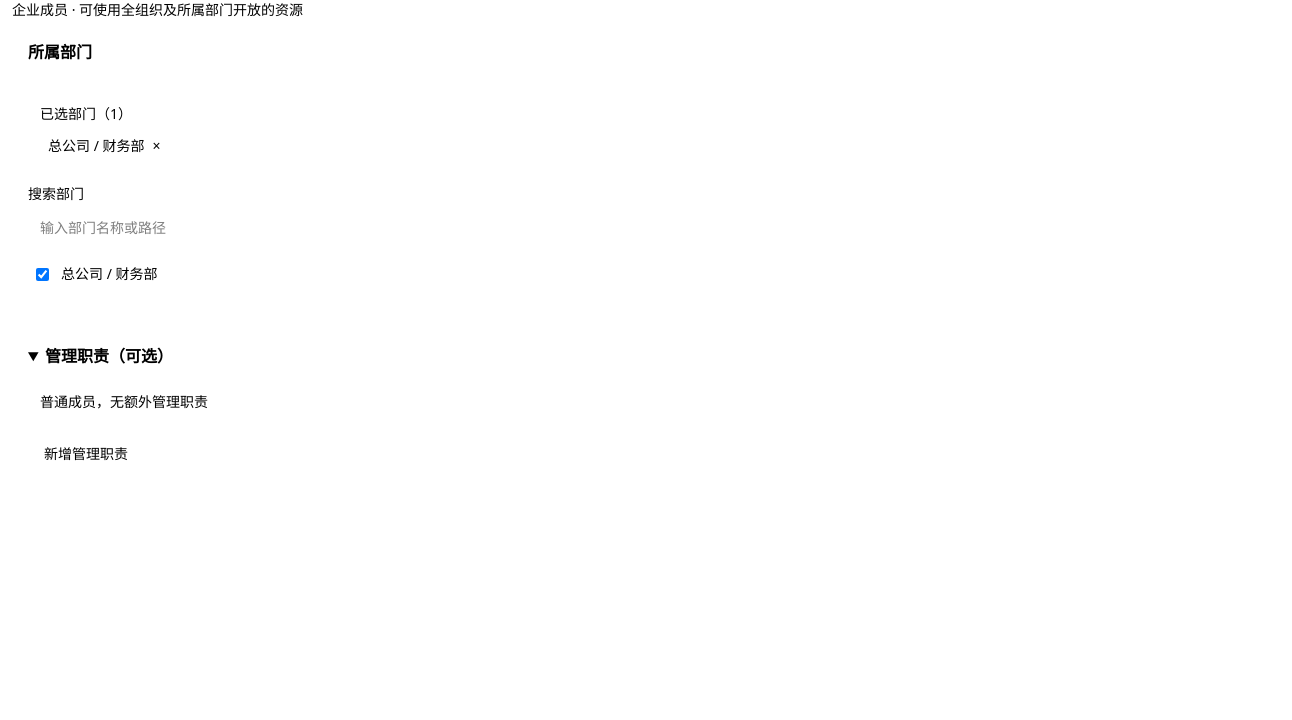
Scenario: 搜索部门不会隐藏已选摘要，取消新增授权不会修改列表
Type "不存在" into the field labelled "搜索部门" at [652, 228], box [28, 208, 1276, 248]
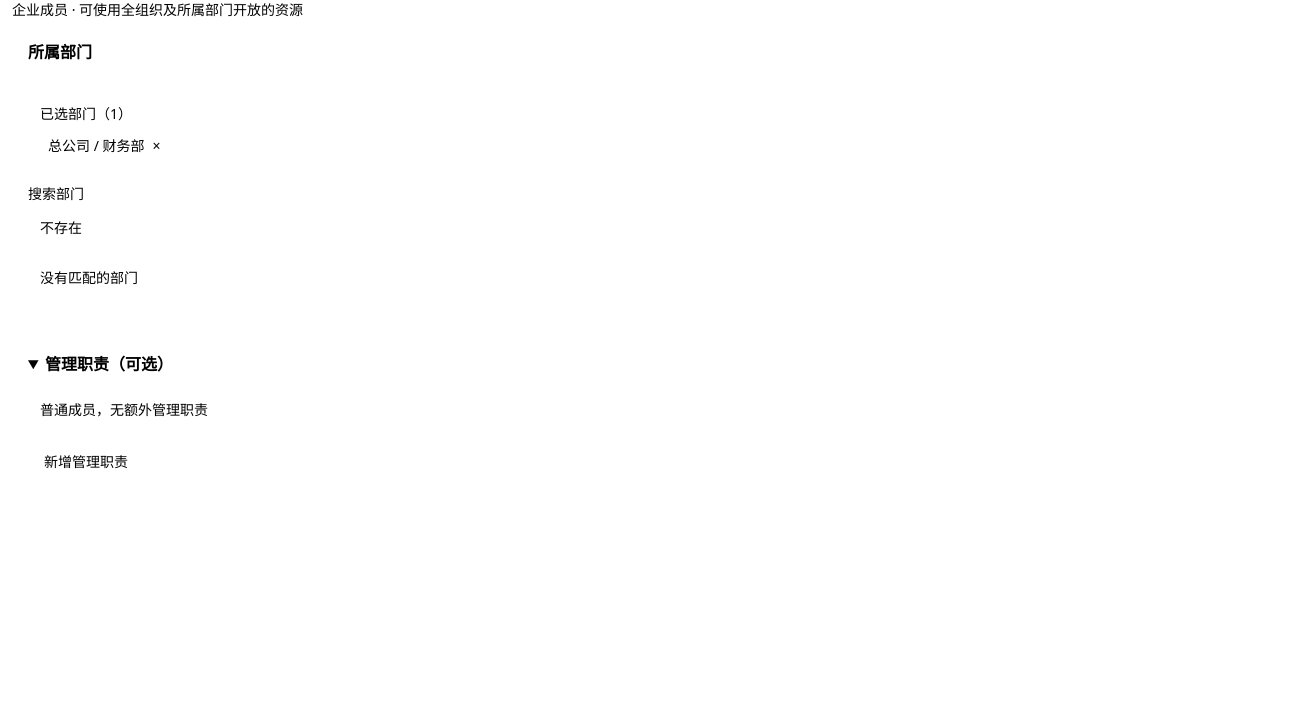
Expected: the text "已选部门（1）" is shown, [40, 104, 132, 123]
Result: the text "没有匹配的部门" is shown at [40, 268, 138, 287]
Click the button "新增管理职责" at [86, 462], box [28, 444, 144, 480]
(page scrolled)
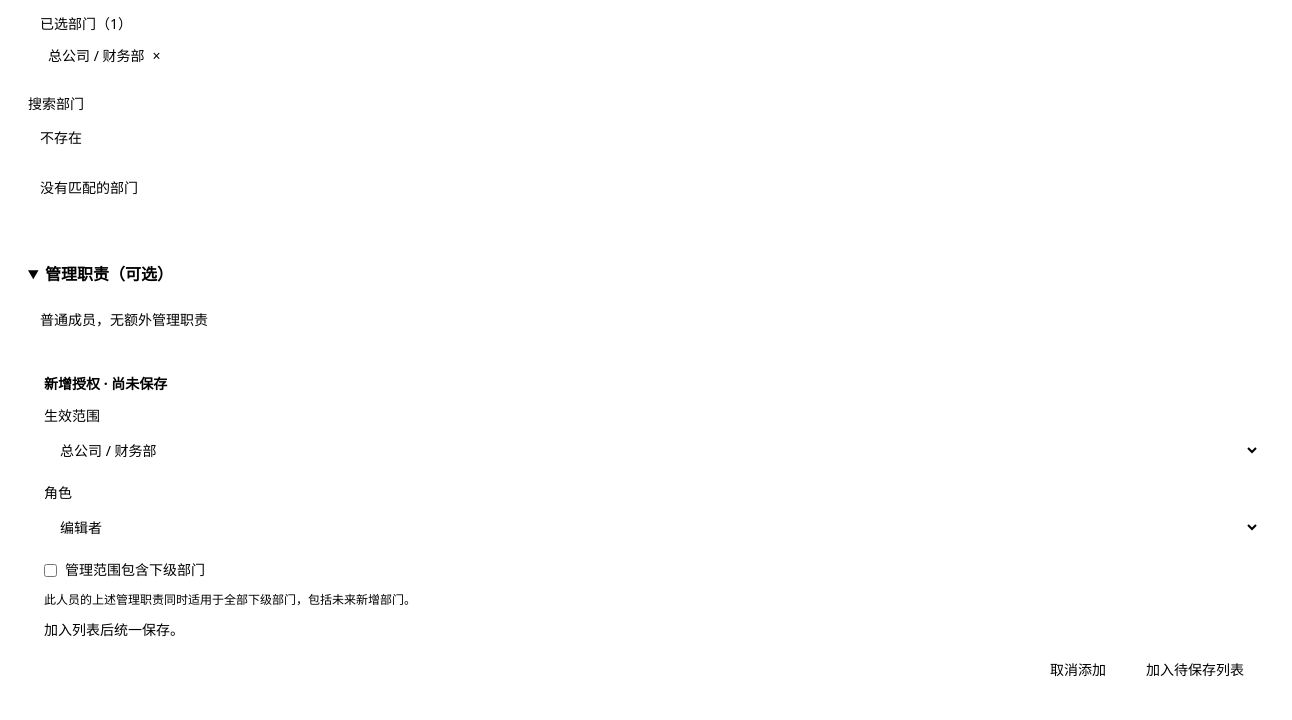
Click the button "取消添加" at [1078, 670], box [1034, 652, 1122, 688]
(page scrolled)
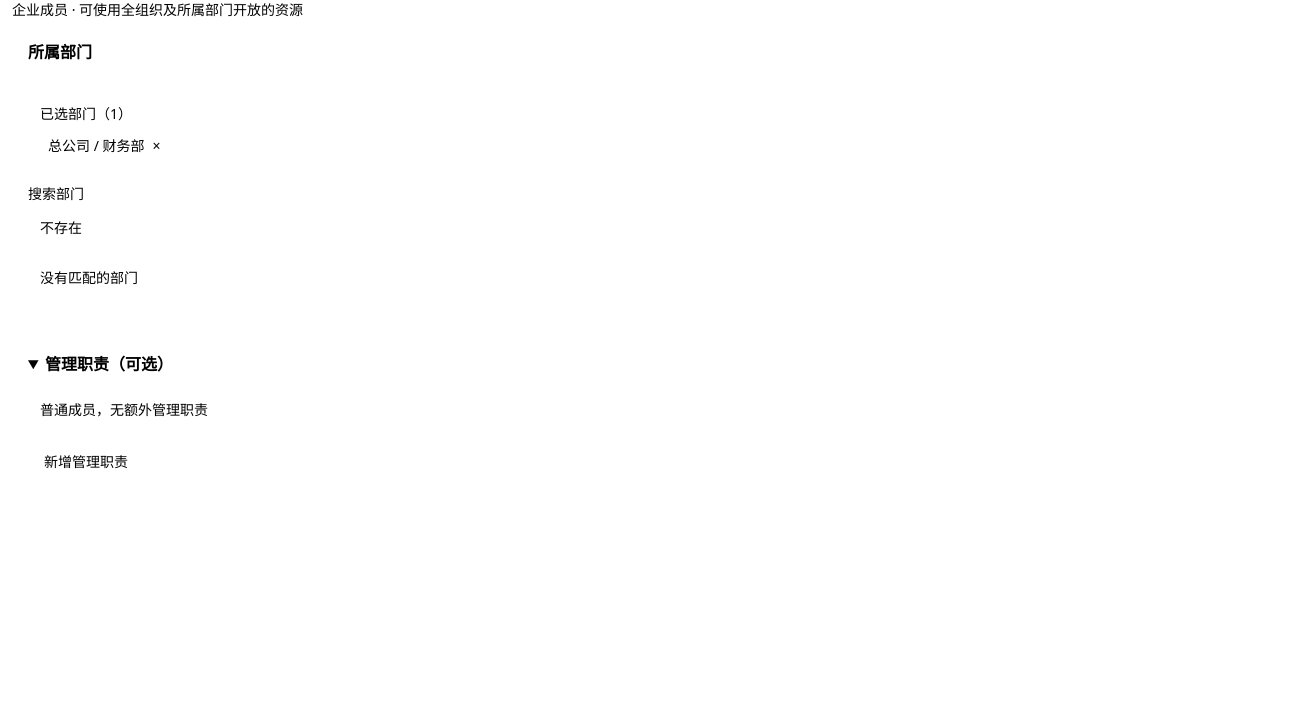
Result: the label labelled "生效范围" is gone
